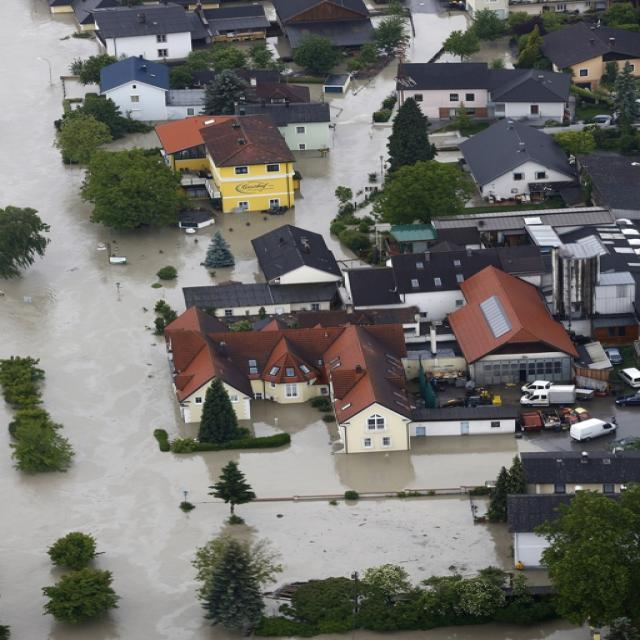flood: (0, 0, 570, 640), (240, 498, 512, 584), (520, 397, 640, 452), (314, 623, 592, 640), (408, 0, 469, 60), (466, 0, 611, 18), (470, 40, 516, 68), (430, 42, 462, 60)
house: (458, 268, 578, 381), (328, 328, 414, 454), (464, 116, 576, 202), (203, 112, 300, 211), (388, 242, 563, 294), (252, 220, 342, 285), (396, 59, 490, 118), (174, 349, 252, 420), (96, 5, 192, 60), (276, 0, 377, 48), (488, 64, 574, 120), (101, 54, 170, 120), (550, 23, 604, 84), (346, 260, 402, 312), (280, 104, 333, 154), (206, 3, 270, 42)
